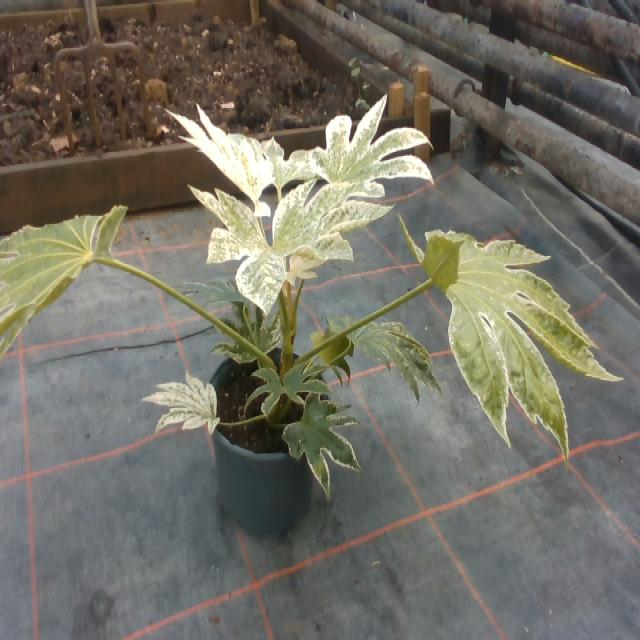Fatsia-japonica: (394, 199, 616, 459), (182, 185, 368, 307), (0, 189, 124, 368), (298, 99, 432, 198), (175, 104, 276, 208), (227, 109, 322, 202), (329, 314, 430, 391), (278, 388, 359, 482), (204, 301, 287, 364), (150, 369, 221, 441), (172, 268, 270, 314), (240, 350, 308, 405)
